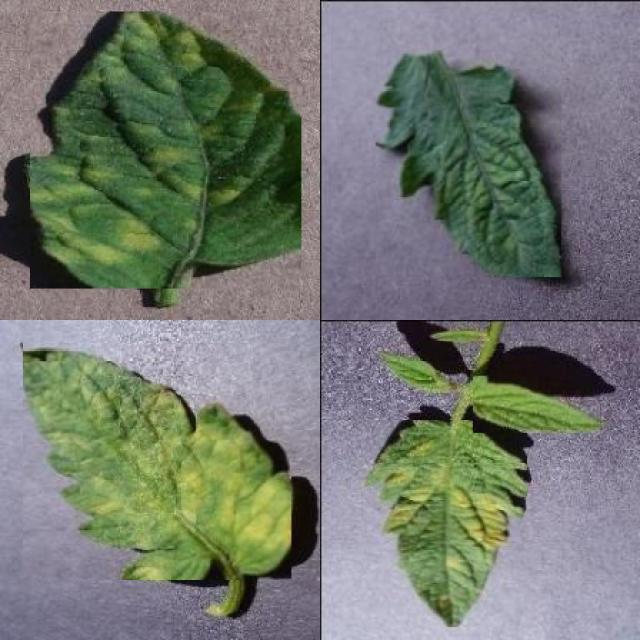Healthy: (473, 376, 601, 433)
Leaf Mold: (30, 11, 301, 289), (24, 344, 292, 580), (362, 420, 527, 627)
Mosaic Virus: (376, 50, 561, 277)
